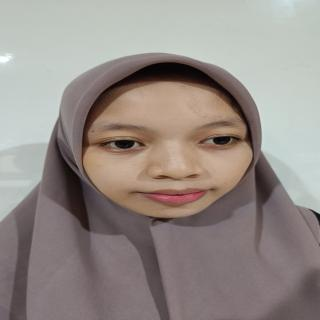Netral: (77, 74, 264, 223)
